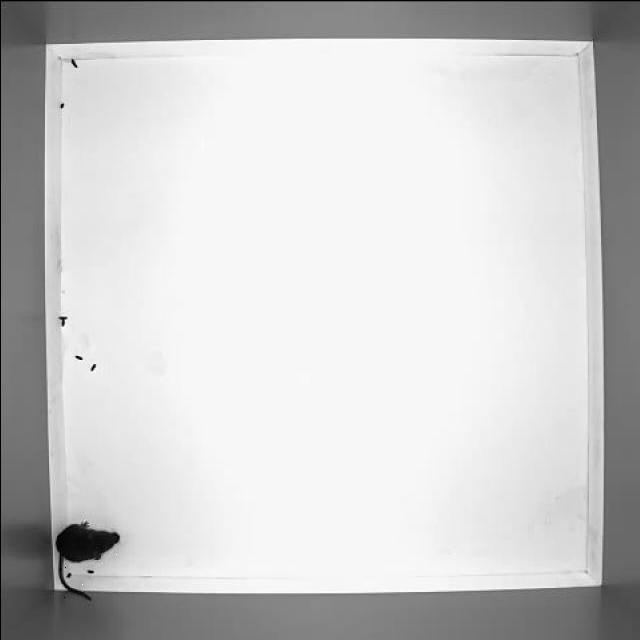rat: (52, 517, 121, 605)
